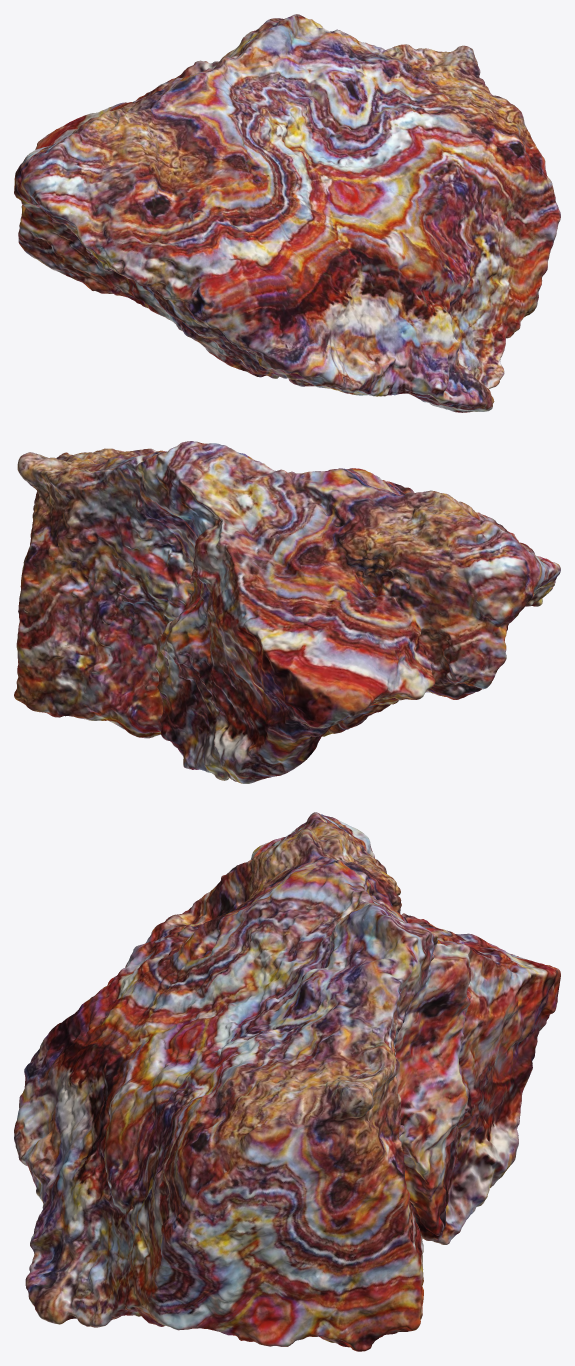
Rendered from onyx.glb.
The picture shows the model from 3 angles, top to bottom: view 1: azimuth 30°, elevation 25°; view 2: azimuth 150°, elevation 25°; view 3: azimuth 270°, elevation 25°; orthographic projection. The views are drawn at different scales.
Parts seen in each view (by area): view 1: Object_2; view 2: Object_2; view 3: Object_2.
Boxes of the visible parts, bbox=[...] form: Object_2: bbox=[14, 14, 560, 412]; Object_2: bbox=[14, 441, 560, 783]; Object_2: bbox=[14, 812, 560, 1351].
Bounding box in the file's own units: 76.7 × 47.06 × 62.49.
1 material, 1 textured.
